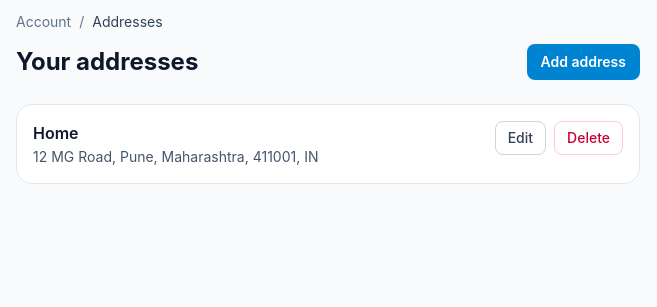
Test case: AddressesPage › deletes an address after confirmation
This screenshot has width=657, height=307.
Expected: the text "Home" is shown, [33,123,78,143]
Click the button "Delete": (589, 138) [554,121,623,155]
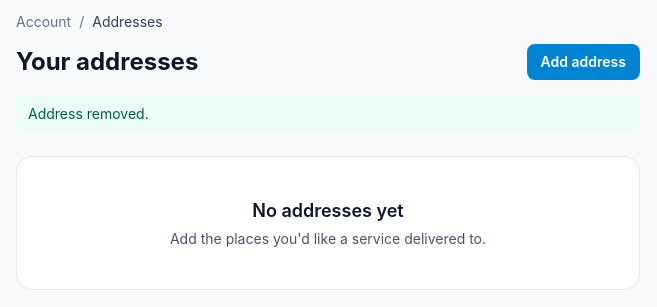
Expected: the text "No addresses yet" is shown, [252,200,404,221]
